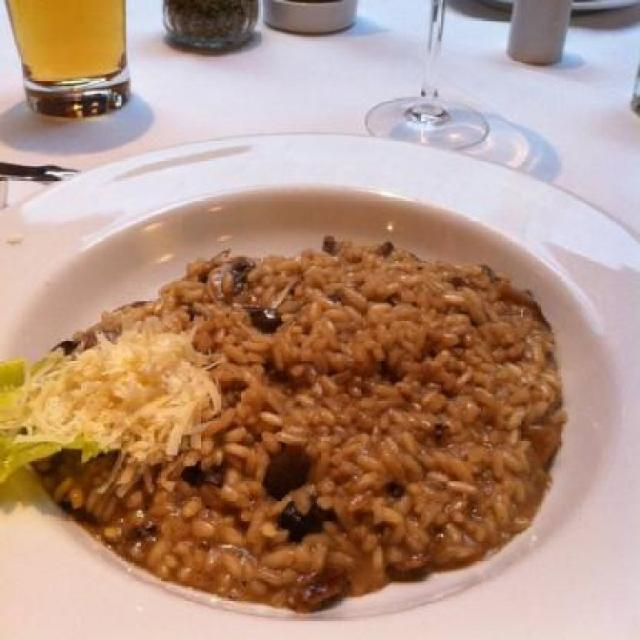Risotto: (31, 234, 564, 596)
